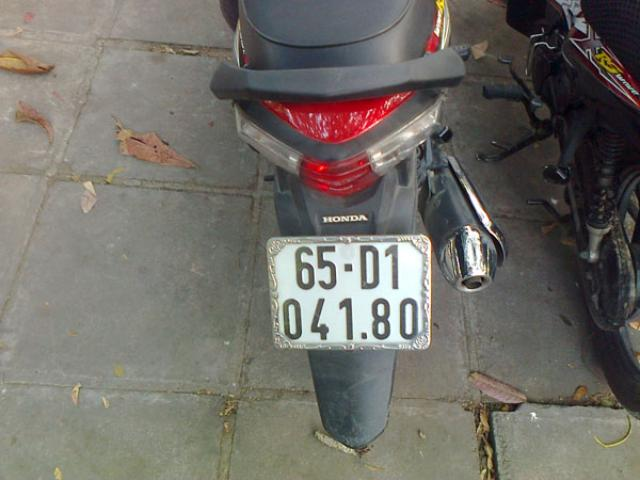plate: (274, 240, 426, 348)
